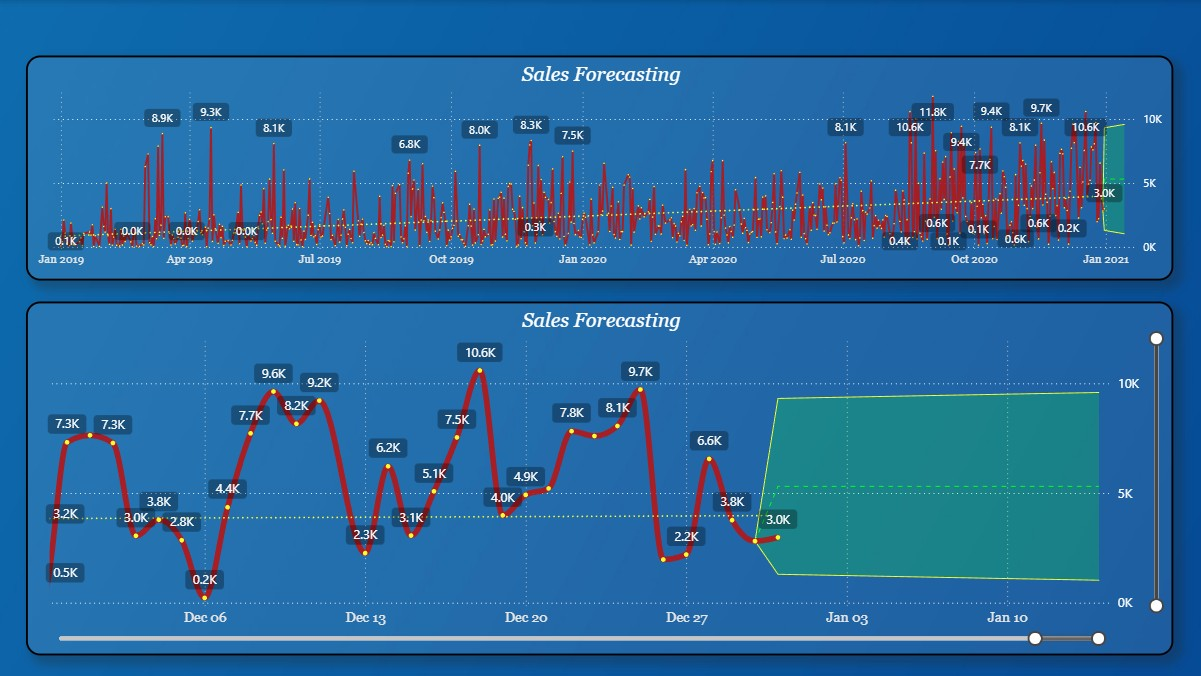

The dashboard page shown, as its layout file describes it:
{"tool":"powerbi","page":{"name":"Page 2","canvas":[1280,720],"ordinal":1},"visuals":[{"type":"lineChart","title":"Sales Forecasting","fields":{"Y":["Order Data.Total Sales"],"Category":["Order Data.Order Date"]},"box":[28.6,319.7,1216.8,375.4],"z":0},{"type":"lineChart","title":"Sales Forecasting","fields":{"Y":["Order Data.Total Sales"],"Category":["Order Data.Order Date"]},"box":[28.3,58.3,1216.7,238.3],"z":1000}]}

Visuals, with their boxes in screenshot pixels (x1, y1, x2, y2), scaled from the page's 1280x720 canvas onto the 1201x676 screenshot:
"Sales Forecasting" lineChart: [left=27, top=300, right=1169, bottom=653]
"Sales Forecasting" lineChart: [left=27, top=55, right=1168, bottom=278]
